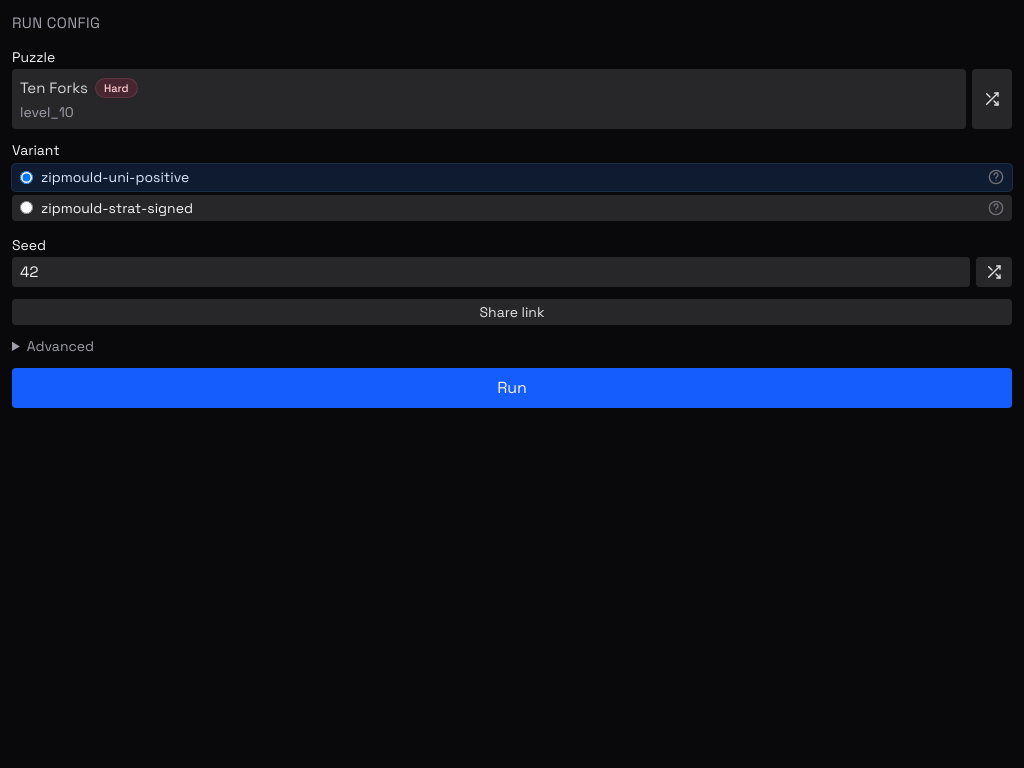
ConfigPanel › clears filters from the picker empty state
The width and height of the screenshot is (1024, 768).
Step 1. Click the button with test id "open-puzzle-picker" → (54, 88), box x1=12 y1=69 x2=966 y2=129
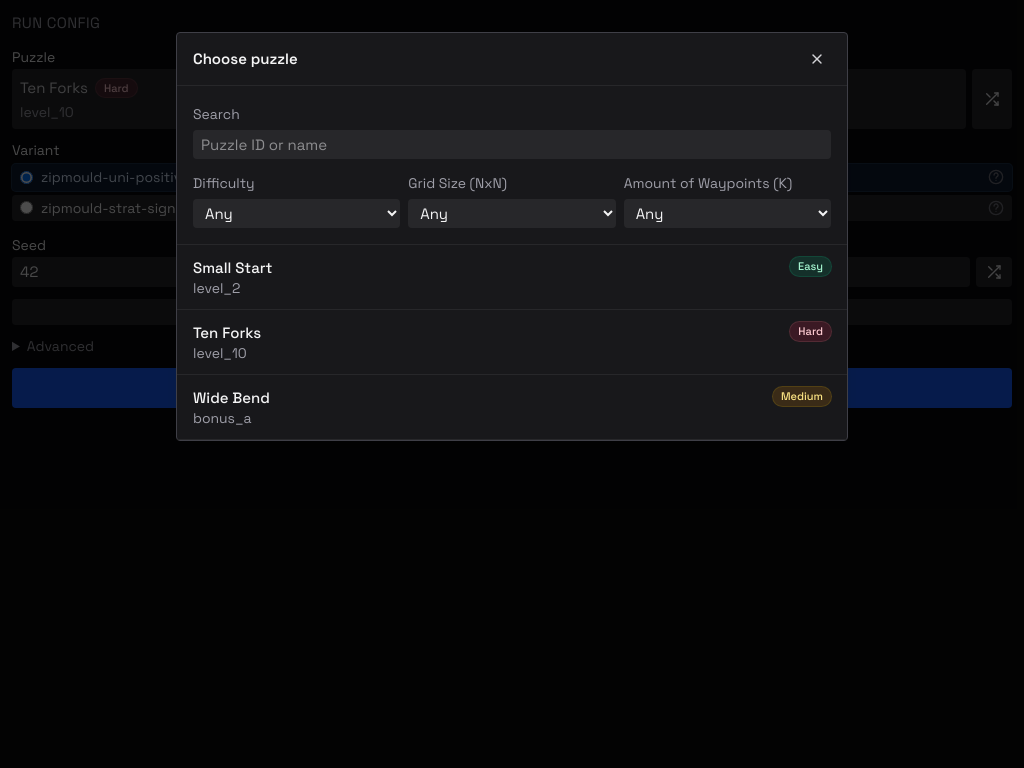
Step 2. Type "no match" into the search field with test id "puzzle-search" → (512, 145), box x1=193 y1=130 x2=831 y2=159
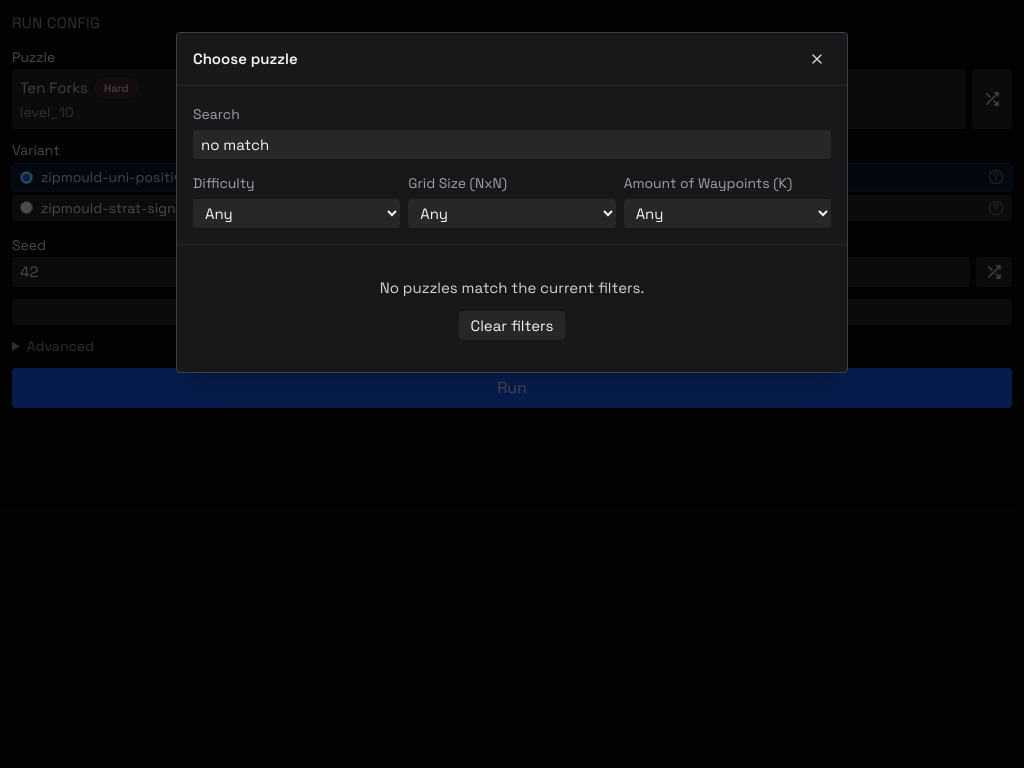
expect the dialog shows "No puzzles match": met, box x1=380 y1=278 x2=644 y2=297
Step 3. Click the button with test id "clear-puzzle-filters" → (512, 326), box x1=459 y1=311 x2=566 y2=340
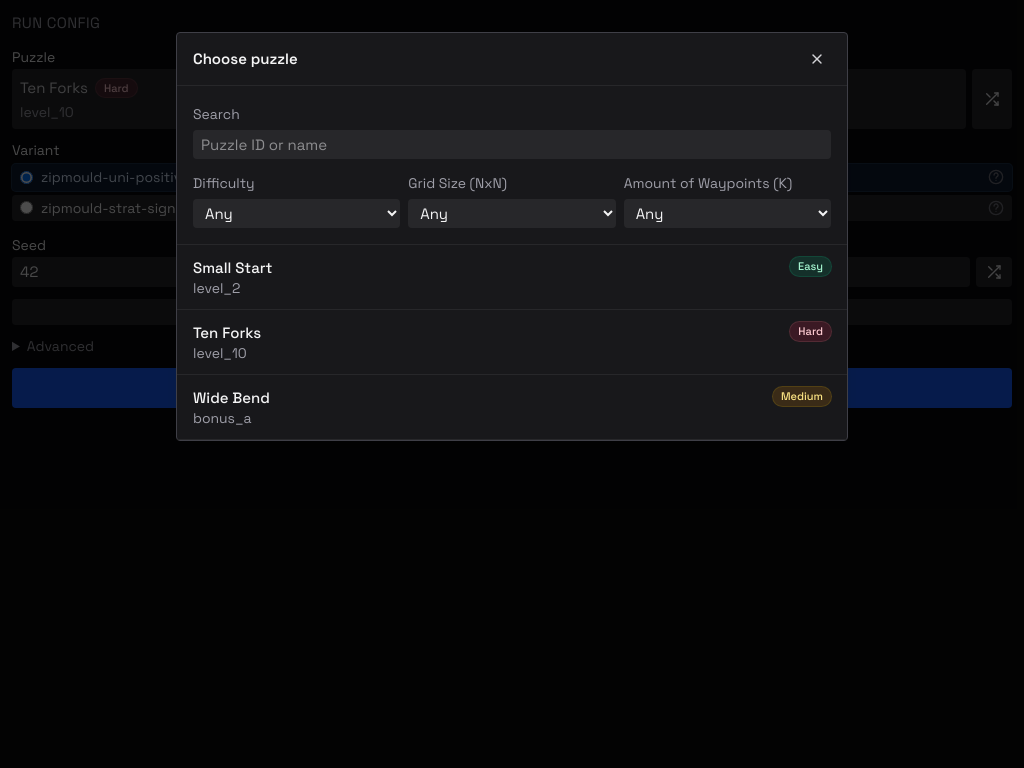
expect the number of buttons with test id "puzzle-option" is 3: met, box x1=177 y1=245 x2=847 y2=310; x1=177 y1=310 x2=847 y2=375; x1=177 y1=376 x2=847 y2=440
